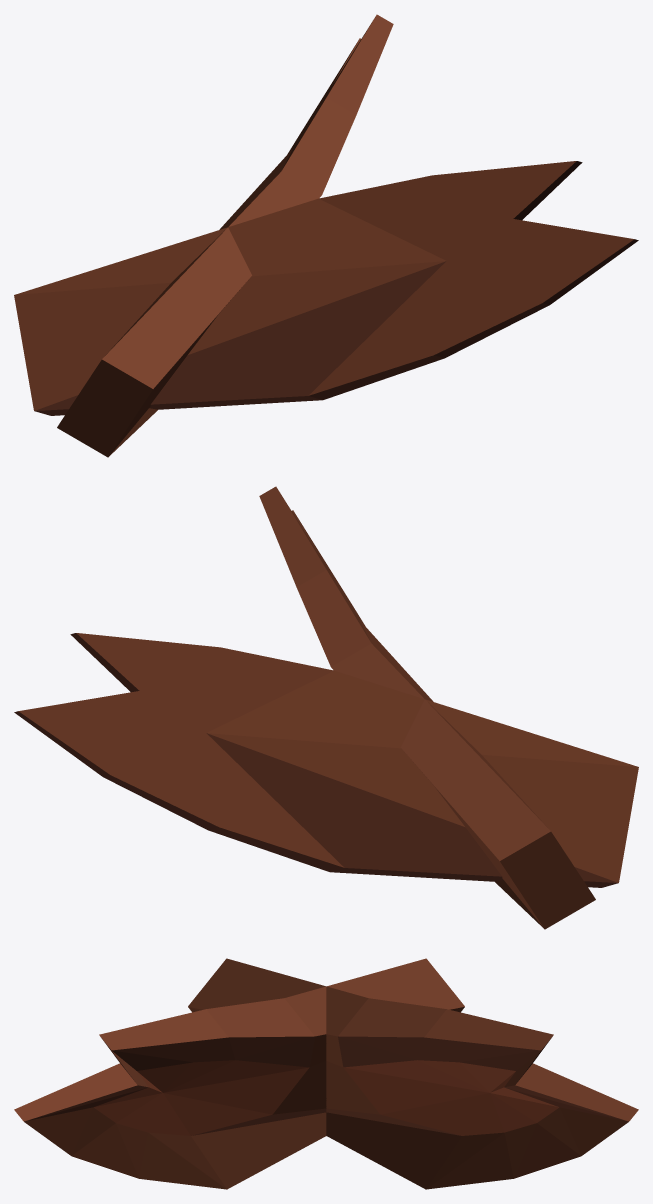
The model's file is kb_frill.glb.
3 views of the same model, one above another, from view 1: azimuth 30°, elevation 25°; view 2: azimuth 150°, elevation 25°; view 3: azimuth 270°, elevation 25° (orthographic). The views are drawn at different scales.
Visible parts, largest first — view 1: Ear_R, Ear_L; view 2: Ear_L, Ear_R; view 3: Ear_L, Ear_R.
Part boxes in pixels (box(x1,y1,x2,y2)): Ear_R: box(14, 161, 638, 415); Ear_L: box(57, 14, 393, 457); Ear_L: box(14, 633, 638, 887); Ear_R: box(259, 486, 595, 929); Ear_L: box(188, 958, 638, 1189); Ear_R: box(14, 958, 464, 1189).
Bounding box in the file's own units: 0.0716 × 0.0375 × 0.074.
Materials: 1 (1 with a texture image).
